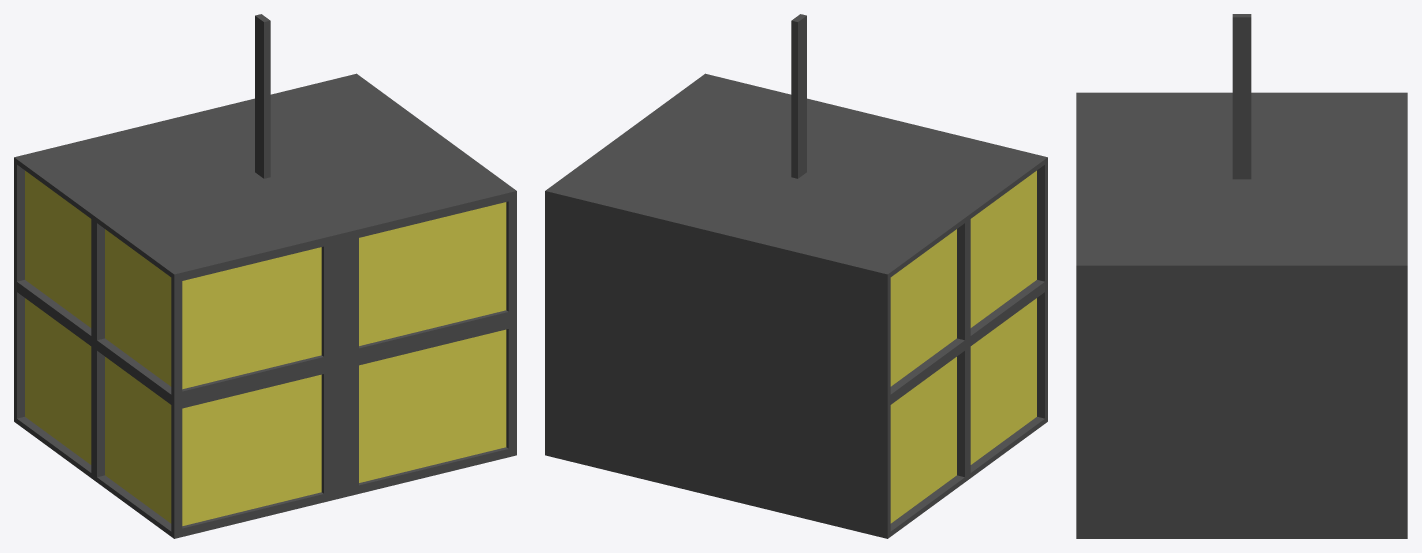
File: OfficeTop2.fbx
3 renders of one model, left to right at view 1: azimuth 30°, elevation 25°; view 2: azimuth 150°, elevation 25°; view 3: azimuth 270°, elevation 25°, orthographic. The views are drawn at different scales.
Parts seen in each view (by area): view 1: Cube.004; view 2: Cube.004; view 3: Cube.004.
Part boxes in pixels (x1,y1,x2,y2): Cube.004: (14, 14, 516, 538); Cube.004: (545, 14, 1047, 538); Cube.004: (1076, 14, 1407, 538).
Size of the model in its own units: 2096 by 2461 by 1697.
